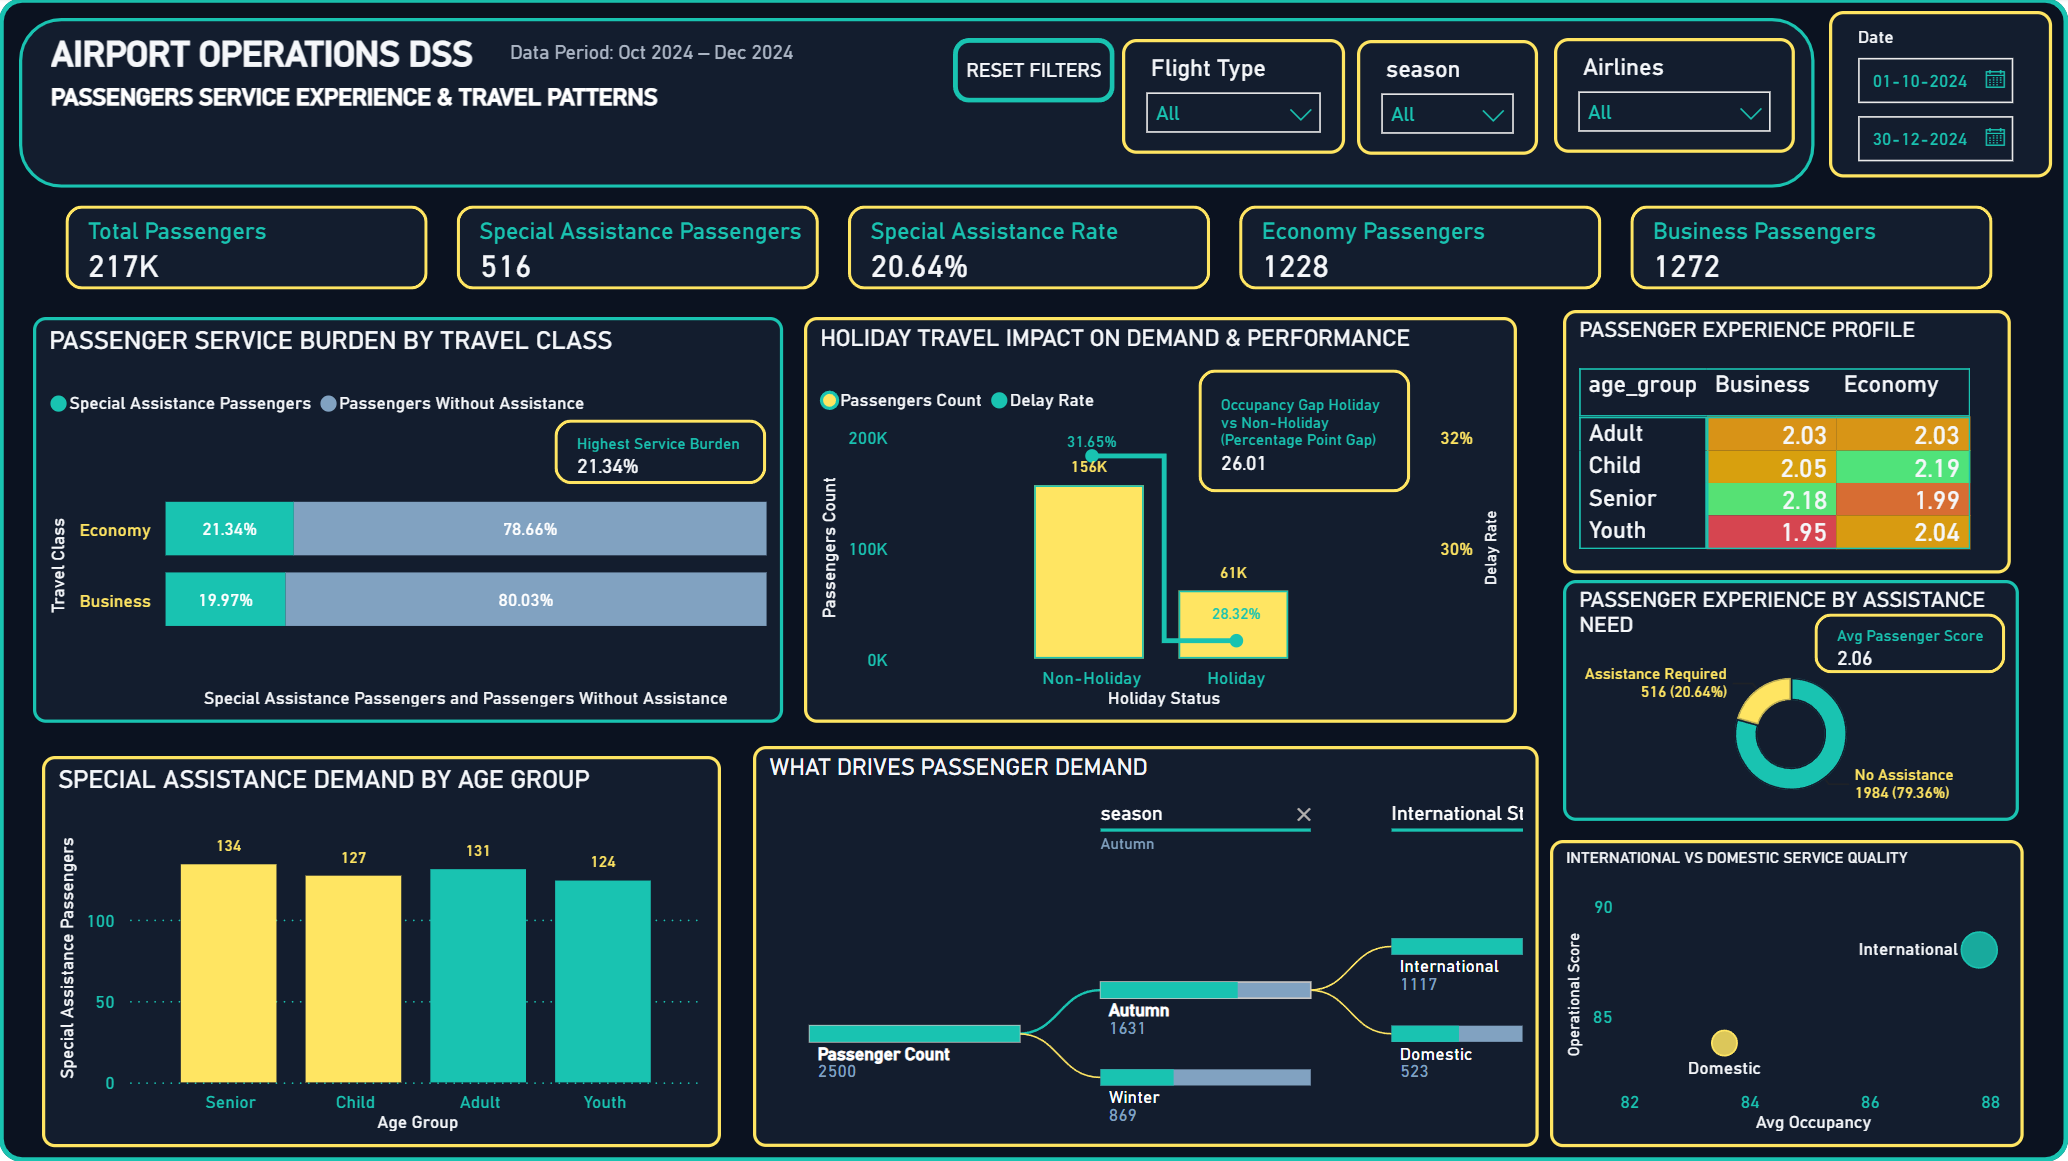

The dashboard page shown, as its layout file describes it:
{"tool":"powerbi","page":{"name":"Passenger Service Experience & Travel Patterns","canvas":[1280,720],"ordinal":2},"visuals":[{"type":"shape","box":[0,0,1280,720],"z":0},{"type":"shape","box":[12.5,12.5,1110.6,105],"z":1000},{"type":"textbox","box":[27,17.1,290.5,34.3],"z":2000},{"type":"textbox","box":[27.5,46.9,400.6,28.1],"z":3000},{"type":"textbox","box":[311.1,18.6,186.8,32.8],"z":4000},{"type":"cardVisual","fields":{"Data":["All_Measures.Total Passengers","All_Measures.Special Assistance Passengers","All_Measures.Special Assistance Rate","All Measures.Economy Passengers","All Measures.Business Passengers"]},"box":[24.4,111.2,1230.6,86.2],"z":5000},{"type":"hundredPercentStackedBarChart","title":"PASSENGER SERVICE BURDEN BY TRAVEL CLASS","fields":{"Category":["passengers.travel_class"],"Y":["All Measures.Special Assistance Passengers","All Measures.Passengers Without Assistance"]},"box":[21.2,197.5,463.8,251.2],"z":6000},{"type":"donutChart","title":"PASSENGER EXPERIENCE BY ASSISTANCE NEED","fields":{"Category":["passengers.Assistance Group"],"Y":["All Measures.Passenger Count"]},"box":[967.5,360,281.9,149.4],"z":7000},{"type":"pivotTable","title":"PASSENGER EXPERIENCE PROFILE","fields":{"Rows":["passengers.age_group"],"Columns":["passengers.travel_class"],"Values":["All Measures.Average Passenger Score"]},"box":[967.5,193.1,276.9,163.1],"z":8000},{"type":"clusteredColumnChart","title":"SPECIAL ASSISTANCE DEMAND BY AGE GROUP","fields":{"Category":["passengers.age_group"],"Y":["All Measures.Special Assistance Passengers"]},"box":[26.9,468.8,420,241.9],"z":9000},{"type":"cardVisual","fields":{"Data":["All Measures.Highest Assistance Rate"]},"box":[326.9,243.8,165,74.4],"z":10000},{"type":"cardVisual","fields":{"Data":["All Measures.Avg Passenger Score"]},"box":[1106.2,363.8,152.5,71.2],"z":11000},{"type":"lineClusteredColumnComboChart","title":"HOLIDAY TRAVEL IMPACT ON DEMAND & PERFORMANCE","fields":{"Category":["flights.Holiday Status"],"Y":["All Measures.Passengers by Holiday Status"],"Y2":["All Measures.Delay Rate"]},"box":[498.1,197.5,440.6,251.2],"z":12000},{"type":"cardVisual","fields":{"Data":["All Measures.Occupancy Gap Holiday vs Non-Holiday"]},"box":[725,212.5,165,110.6],"z":13000},{"type":"scatterChart","title":"INTERNATIONAL VS DOMESTIC SERVICE QUALITY","fields":{"X":["All Measures.Avg Occupancy"],"Y":["All Measures.Avg Operational Score"],"Size":["All Measures.Total Passengers"],"Series":["flights.International Status"]},"box":[959.4,520.6,293.1,190],"z":14000},{"type":"decompositionTreeVisual","title":"WHAT DRIVES PASSENGER DEMAND","fields":{"Analyze":["All Measures.Passenger Count"],"ExplainBy":["flights.Holiday Status","passengers.travel_class","flights.day_of_week","flights.season","flights.International Status"]},"box":[466.2,462.5,485.6,248.1],"z":15000},{"type":"slicer","title":"DATE","fields":{"Values":["flights.scheduled_departure"]},"box":[1131.9,8.1,137.5,103.1],"z":15001},{"type":"slicer","title":"DATE","fields":{"Values":["flights.airline_name"]},"box":[961.9,25,149.4,70.6],"z":15002},{"type":"slicer","title":"DATE","fields":{"Values":["flights.season"]},"box":[840,26.2,111.9,70.6],"z":15003},{"type":"slicer","title":"DATE","fields":{"Values":["flights.International Status"]},"box":[694.4,25.6,138.1,70.6],"z":15004},{"type":"actionButton","box":[590,25,100,40],"z":15005}]}

Visuals, with their boxes in screenshot pixels (x1, y1, x2, y2), scaled from the page's 1280x720 canvas onto the 2068x1161 screenshot:
shape: <bbox>0, 0, 2067, 1160</bbox>
shape: <bbox>20, 20, 1815, 189</bbox>
textbox: <bbox>44, 28, 513, 83</bbox>
textbox: <bbox>44, 76, 692, 121</bbox>
textbox: <bbox>503, 30, 804, 83</bbox>
cardVisual - All_Measures.Total Passengers x All_Measures.Special Assistance Passengers: <bbox>39, 179, 2028, 318</bbox>
"PASSENGER SERVICE BURDEN BY TRAVEL CLASS" hundredPercentStackedBarChart: <bbox>34, 318, 784, 724</bbox>
"PASSENGER EXPERIENCE BY ASSISTANCE NEED" donutChart: <bbox>1563, 580, 2019, 821</bbox>
"PASSENGER EXPERIENCE PROFILE" pivotTable: <bbox>1563, 311, 2010, 574</bbox>
"SPECIAL ASSISTANCE DEMAND BY AGE GROUP" clusteredColumnChart: <bbox>43, 756, 722, 1146</bbox>
cardVisual - All Measures.Highest Assistance Rate: <bbox>528, 393, 795, 513</bbox>
cardVisual - All Measures.Avg Passenger Score: <bbox>1787, 587, 2034, 701</bbox>
"HOLIDAY TRAVEL IMPACT ON DEMAND & PERFORMANCE" lineClusteredColumnComboChart: <bbox>805, 318, 1517, 724</bbox>
cardVisual - All Measures.Occupancy Gap Holiday vs Non-Holiday: <bbox>1171, 343, 1438, 521</bbox>
"INTERNATIONAL VS DOMESTIC SERVICE QUALITY" scatterChart: <bbox>1550, 839, 2024, 1146</bbox>
"WHAT DRIVES PASSENGER DEMAND" decompositionTreeVisual: <bbox>753, 746, 1538, 1146</bbox>
"DATE" slicer: <bbox>1829, 13, 2051, 179</bbox>
"DATE" slicer: <bbox>1554, 40, 1795, 154</bbox>
"DATE" slicer: <bbox>1357, 42, 1538, 156</bbox>
"DATE" slicer: <bbox>1122, 41, 1345, 155</bbox>
actionButton: <bbox>953, 40, 1115, 105</bbox>
